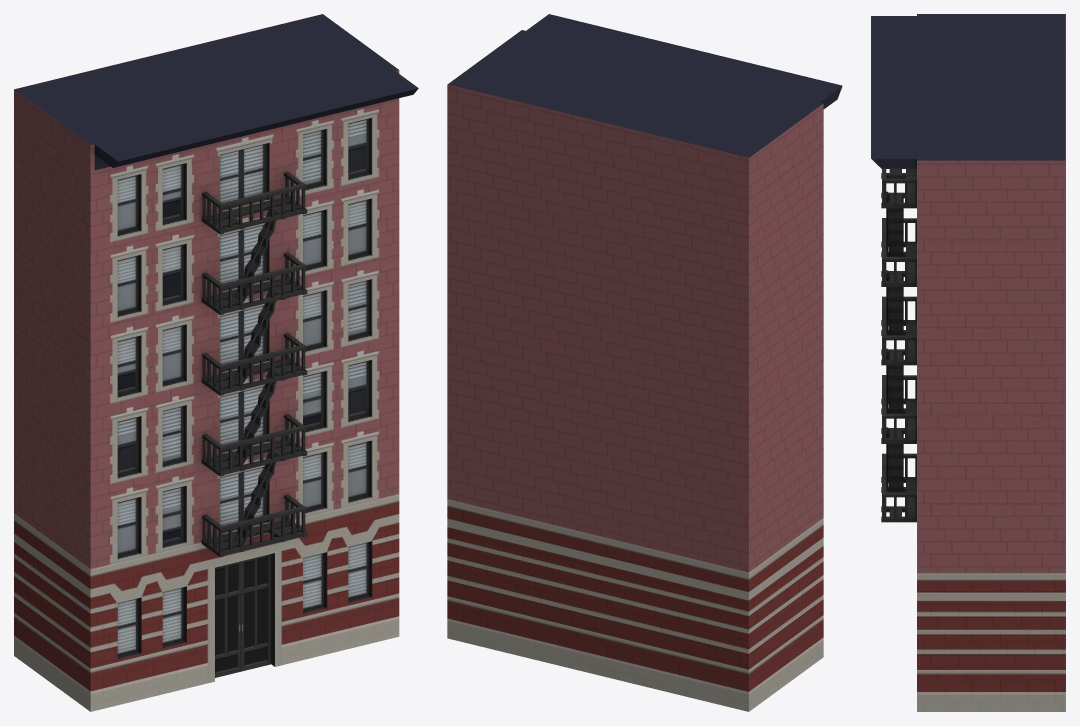
File: apartment-poly.glb
3 renders of one model, left to right at view 1: azimuth 30°, elevation 25°; view 2: azimuth 150°, elevation 25°; view 3: azimuth 270°, elevation 25°, orthographic. The views are drawn at different scales.
Visible parts, largest first — view 1: Apartment_mesh; view 2: Apartment_mesh; view 3: Apartment_mesh.
Boxes of the visible parts, x1,y1,x2,y2 form: Apartment_mesh: (14, 14, 418, 711); Apartment_mesh: (447, 14, 842, 711); Apartment_mesh: (871, 14, 1065, 711).
Size of the model in its own units: 10.32 by 18.1 by 5.79.
Materials: 1 (1 with a texture image).
